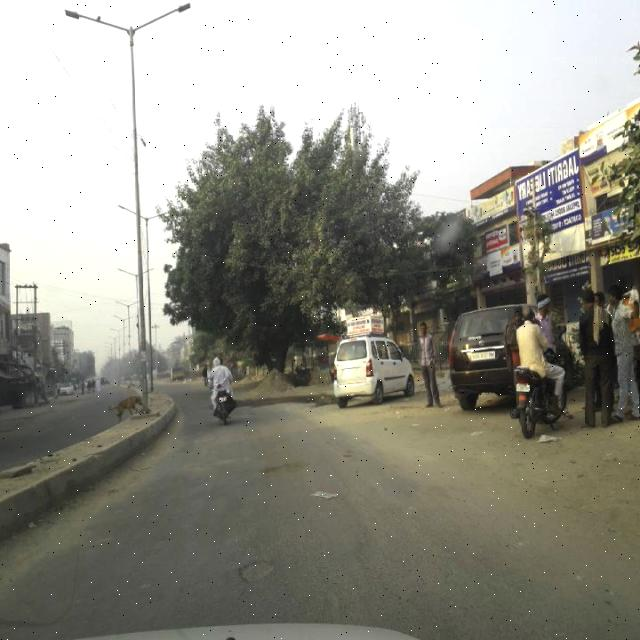D40: (234, 555, 280, 585)
